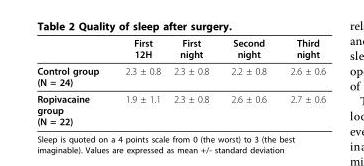table: (36, 36, 325, 126)
table column: (36, 36, 111, 126), (219, 36, 277, 126), (111, 36, 166, 126), (166, 36, 219, 126), (277, 36, 325, 126)
table column header: (36, 36, 325, 62)
table row: (36, 90, 325, 126), (36, 62, 325, 90), (36, 36, 325, 62)
